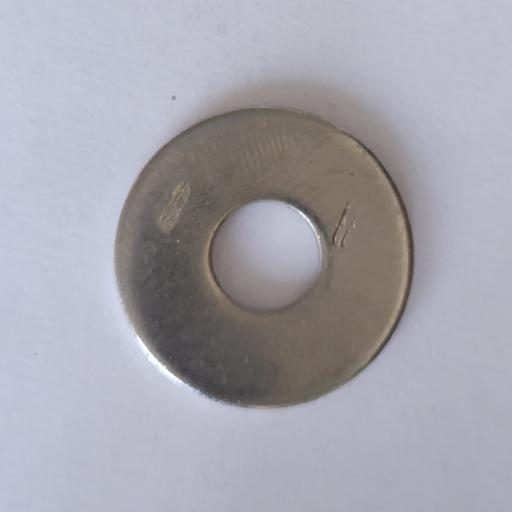scratch: (157, 179, 191, 234), (332, 200, 360, 249)
